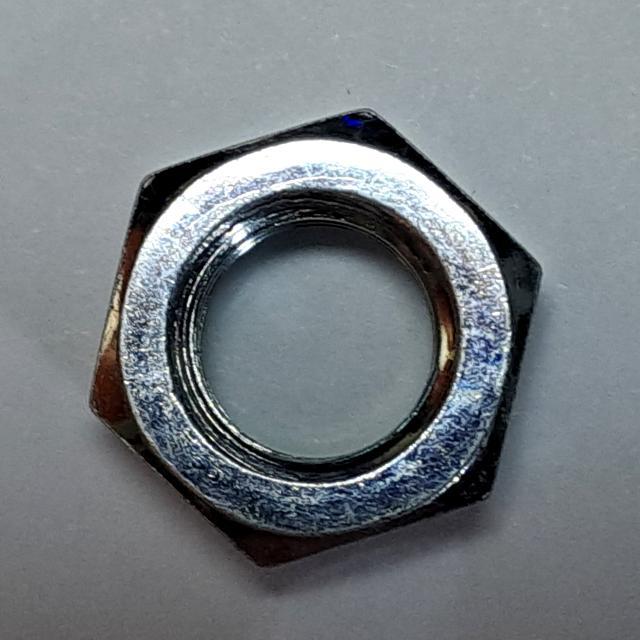Excellent: (81, 92, 561, 583)
